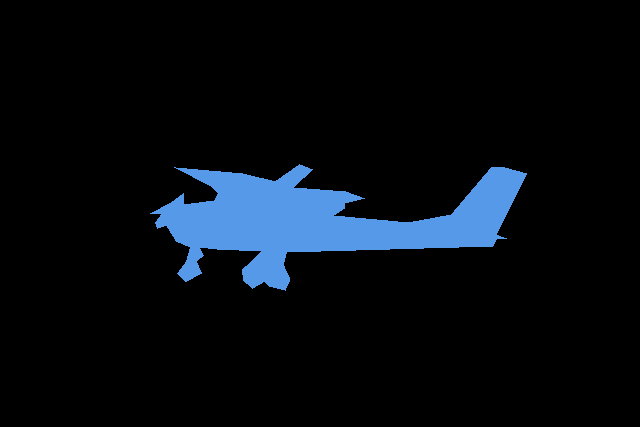Airplane: (150, 164, 527, 291)
